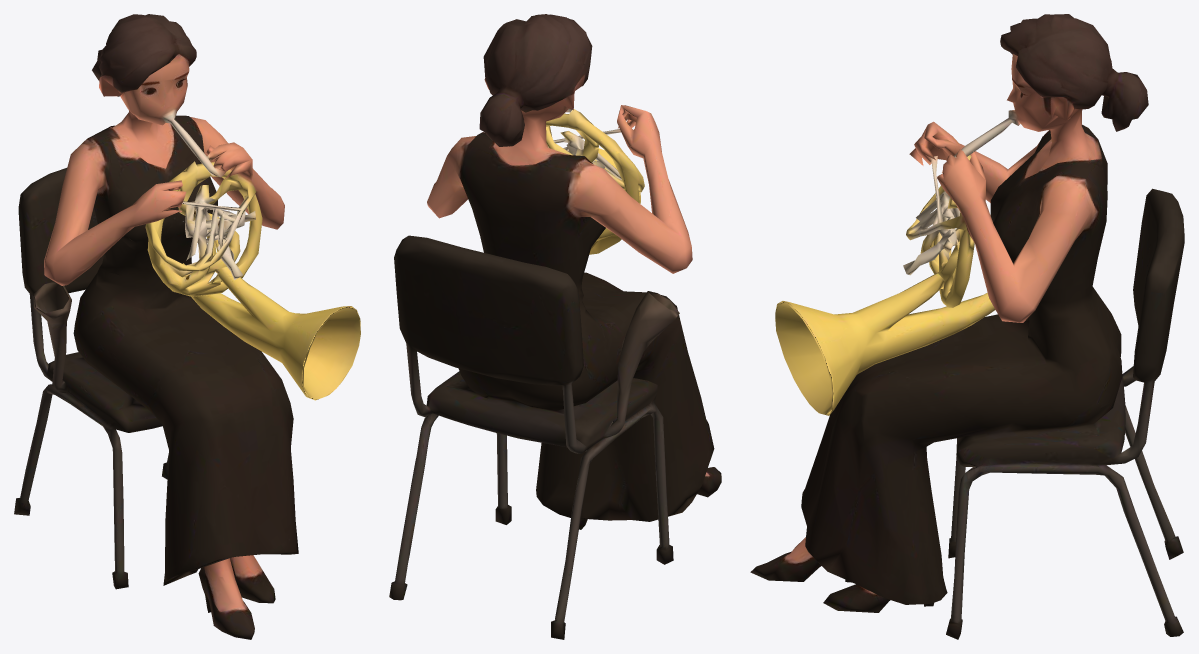
File: hornist.glb
3 renders of one model, left to right at view 1: azimuth 30°, elevation 25°; view 2: azimuth 150°, elevation 25°; view 3: azimuth 270°, elevation 25°, orthographic. The views are drawn at different scales.
Parts seen in each view (by area): view 1: tripo_node_527edc70-374b-40b3-8797-e956d704c36b; view 2: tripo_node_527edc70-374b-40b3-8797-e956d704c36b; view 3: tripo_node_527edc70-374b-40b3-8797-e956d704c36b.
Part boxes in pixels (x1,y1,x2,y2): tripo_node_527edc70-374b-40b3-8797-e956d704c36b: (14, 14, 360, 639); tripo_node_527edc70-374b-40b3-8797-e956d704c36b: (389, 14, 721, 639); tripo_node_527edc70-374b-40b3-8797-e956d704c36b: (750, 14, 1184, 639).
Size of the model in its own units: 0.5982 by 1.25 by 0.849.
1 material, 1 textured.
